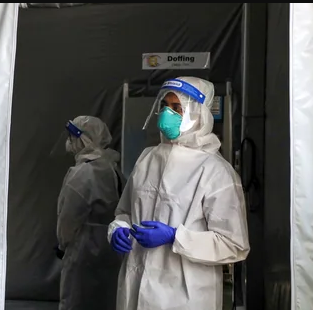Coverall: (106, 75, 251, 310), (54, 115, 126, 310)
Gloves: (130, 217, 186, 249), (108, 225, 132, 254)
with_mask: (156, 100, 185, 140)
